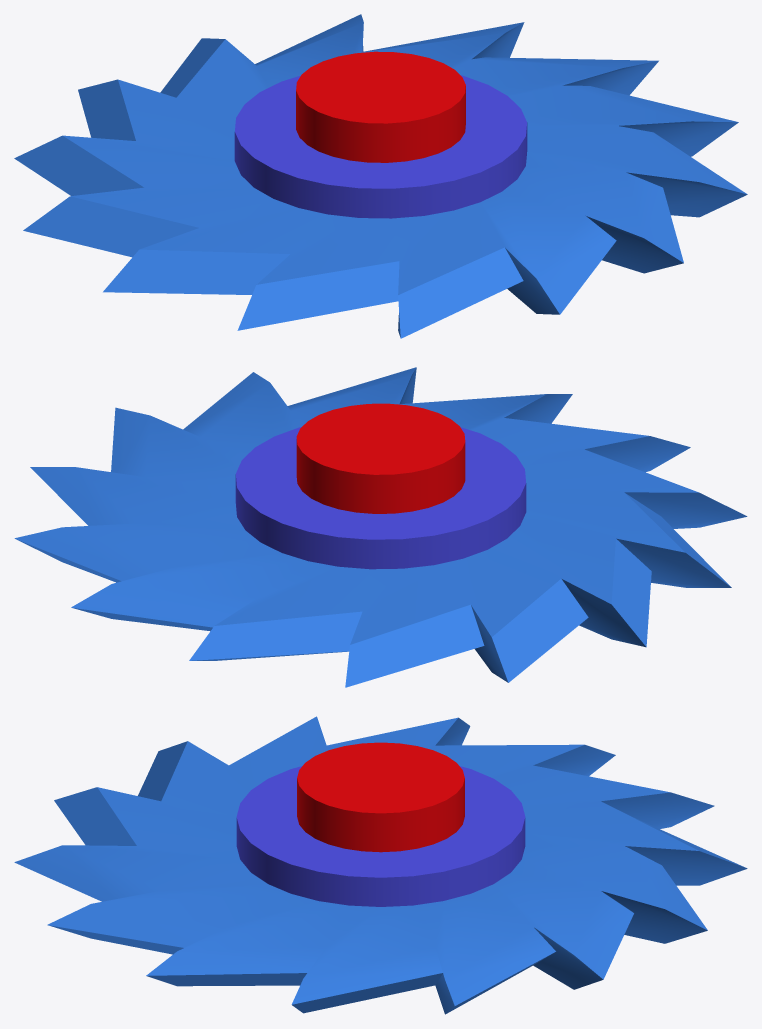
Rendered from Luoi Cua.fbx.
3 renders of one model, top to bottom at view 1: azimuth 30°, elevation 25°; view 2: azimuth 150°, elevation 25°; view 3: azimuth 270°, elevation 25°, orthographic.
Visible parts, largest first — view 1: LuoiCua; view 2: LuoiCua; view 3: LuoiCua.
Boxes of the visible parts, box(x1,y1,x2,y2) form: LuoiCua: box(14, 14, 747, 338); LuoiCua: box(14, 367, 747, 687); LuoiCua: box(14, 716, 747, 1014).
Bounding box in the file's own units: 202 × 54.18 × 206.
